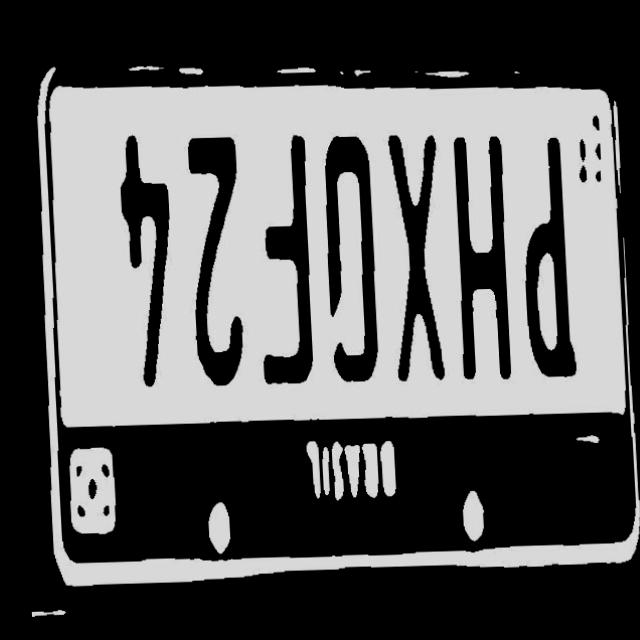0: (316, 134, 381, 393)
2: (179, 132, 246, 387)
4: (112, 130, 180, 391)
f: (249, 127, 318, 395)
h: (447, 133, 513, 386)
p: (512, 137, 578, 387)
x: (385, 132, 444, 387)
